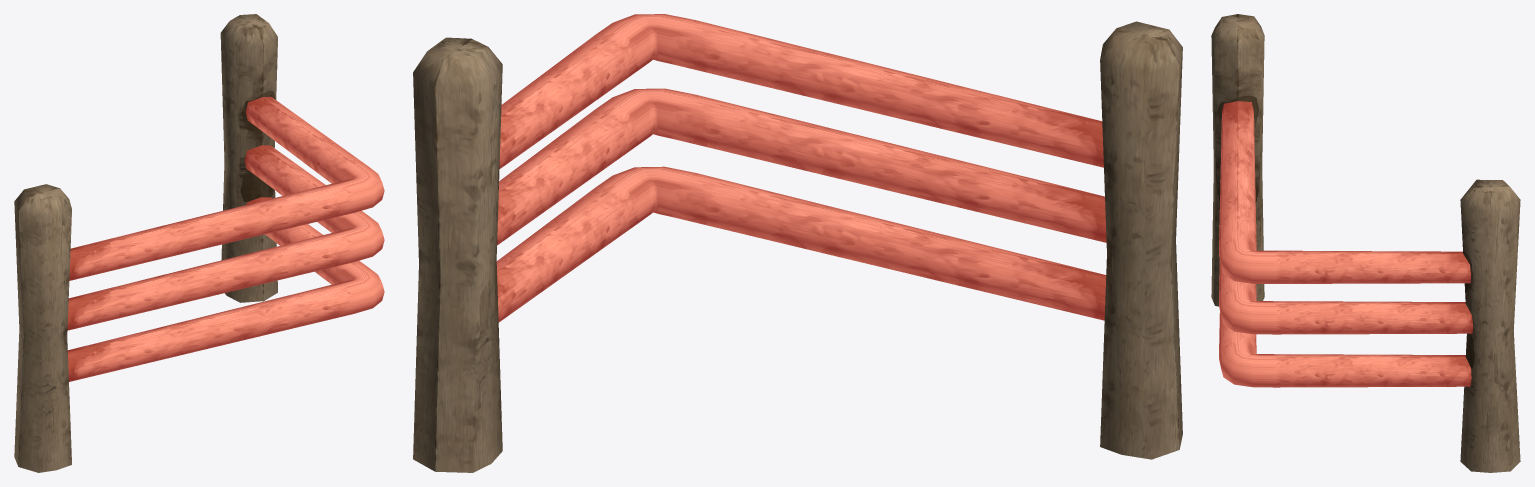
Rendered from gradecurvada_.fbx.
3 renders of one model, left to right at view 1: azimuth 30°, elevation 25°; view 2: azimuth 150°, elevation 25°; view 3: azimuth 270°, elevation 25°, orthographic. The views are drawn at different scales.
Visible parts, largest first — view 1: Cube.002; view 2: Cube.002; view 3: Cube.002.
Part boxes in pixels (left/top/right/bottom): Cube.002: left=14, top=14, right=384, bottom=472; Cube.002: left=413, top=14, right=1182, bottom=472; Cube.002: left=1211, top=14, right=1520, bottom=472.
Bounding box in the file's own units: 280 × 191 × 194.
1 material, 1 textured.
